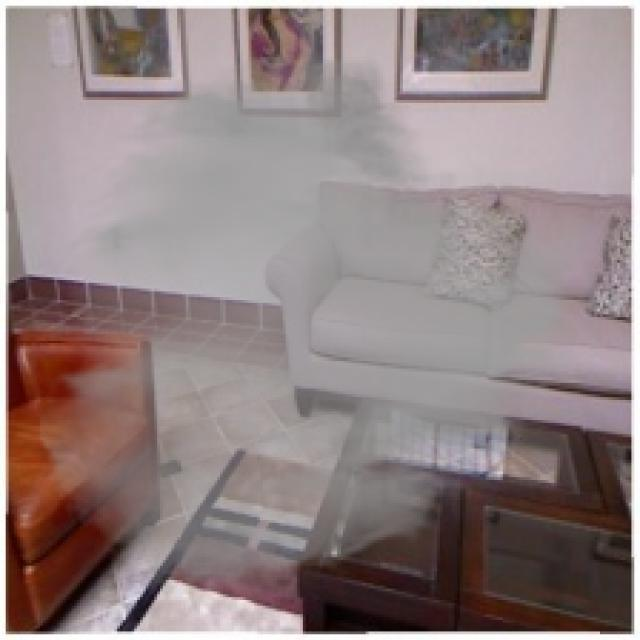Smoke: (34, 48, 603, 598)
